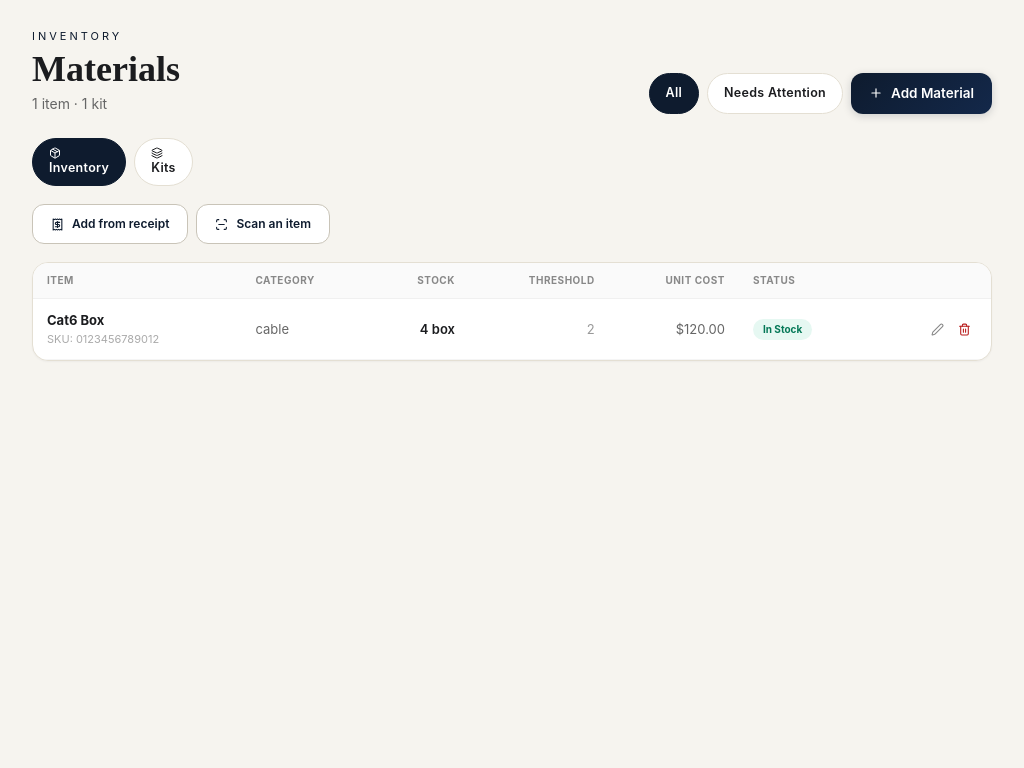
Test: barcode lookup › offers to add an unknown code as a new item, with the code as its SKU
Click the button "Scan an item". click: (263, 224)
box: [196, 204, 330, 244]
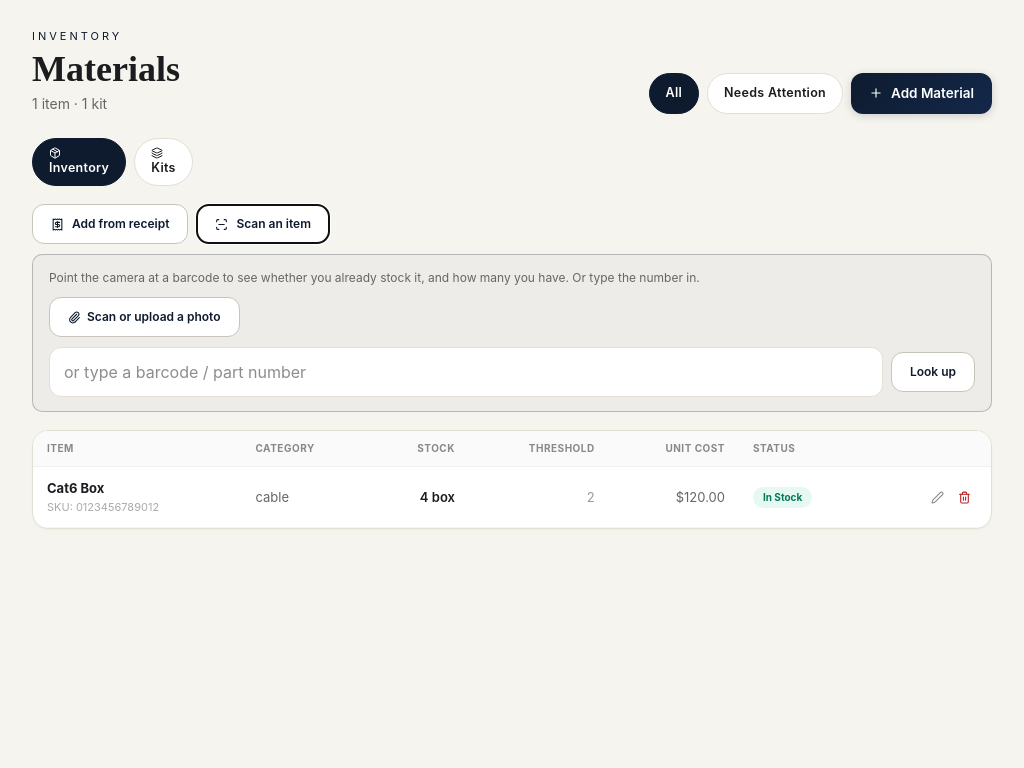
Type "9999999999" into the field with placeholder "or type a barcode / part number". click: (466, 372)
box: [49, 347, 883, 397]
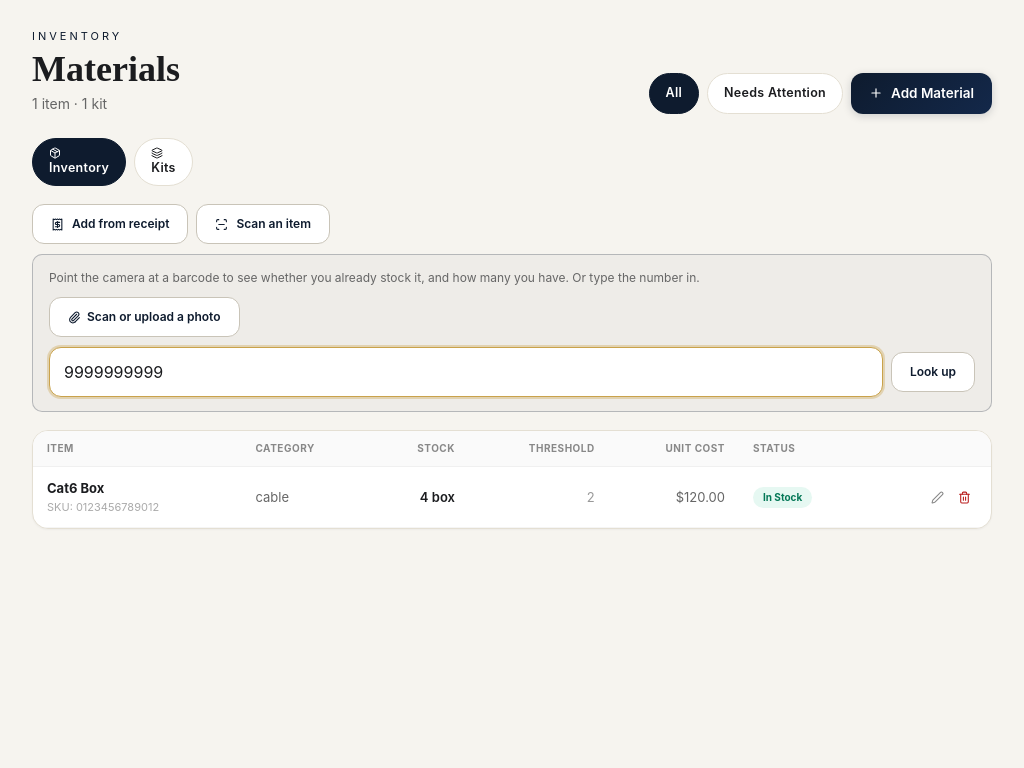
Click the button "Look up". click: (933, 372)
box: [891, 352, 975, 392]
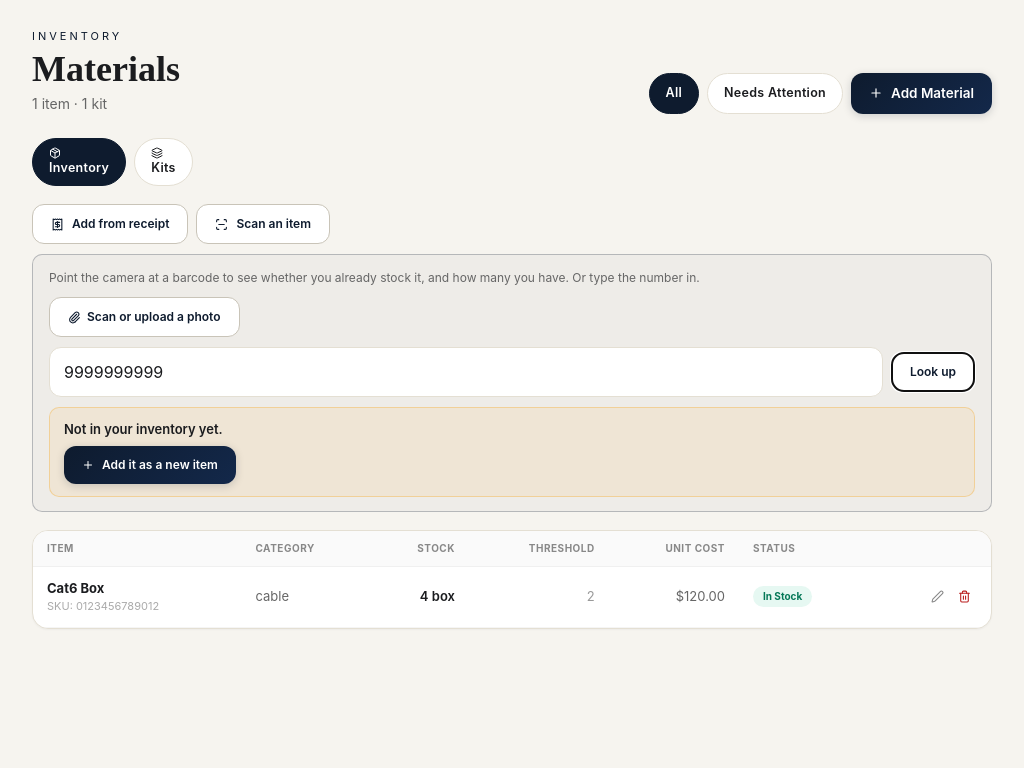
Expected: the text "Not in your inventory yet." is shown, [64, 421, 223, 437]
Click the button "Add it as a new item". click: (150, 465)
box: [64, 446, 236, 484]
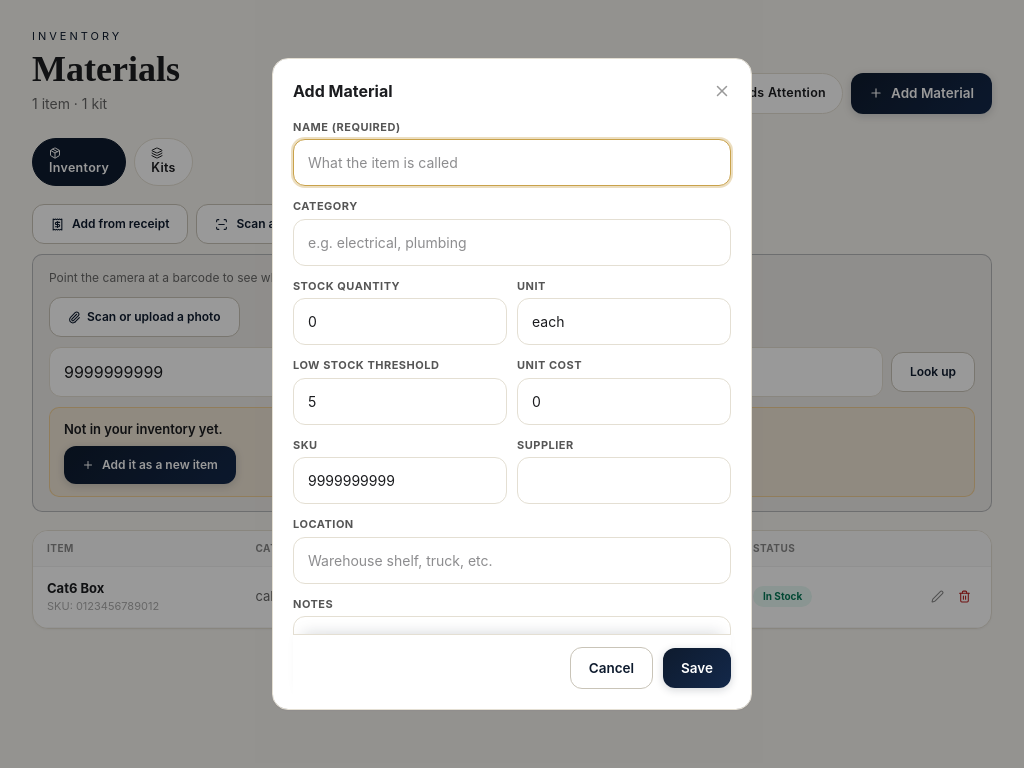
Expected: the number of buttons "Add Material" is 2, [851, 73, 992, 114]; [293, 79, 392, 103]
